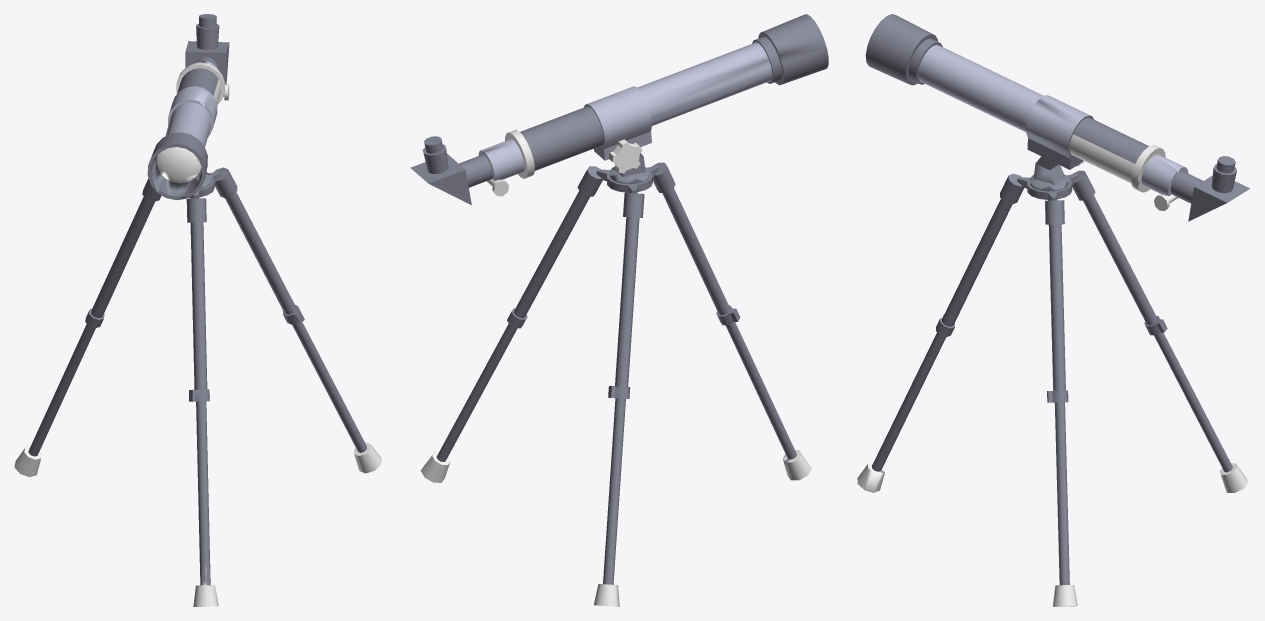
The model's file is Telescope.gltf.
3 views of the same model, side by side, from view 1: azimuth 30°, elevation 25°; view 2: azimuth 150°, elevation 25°; view 3: azimuth 270°, elevation 25° (orthographic).
Parts seen in each view (by area): view 1: Telescope_Colors_0; view 2: Telescope_Colors_0; view 3: Telescope_Colors_0.
Boxes of the visible parts, <box> form: Telescope_Colors_0: <box>14,14,381,606</box>; Telescope_Colors_0: <box>410,14,828,606</box>; Telescope_Colors_0: <box>857,14,1250,606</box>.
Bounding box in the file's own units: 1.76 × 2.48 × 1.91.
Materials: 1 (1 with a texture image).
